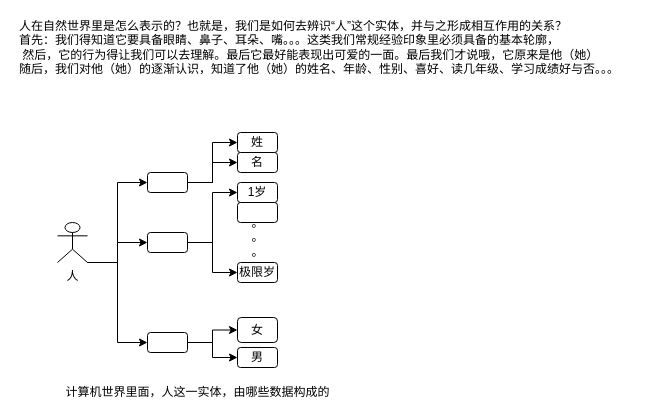
Some shapes in this 664 by 419 pixel diagram are drawn without their labels. The shapes that lost their labels are listed below. From the top down, each one's centre as x and y in pixels, then its label:
point (167, 182): 姓名
point (257, 212): 2岁
point (167, 242): 年龄
point (167, 342): 性别
